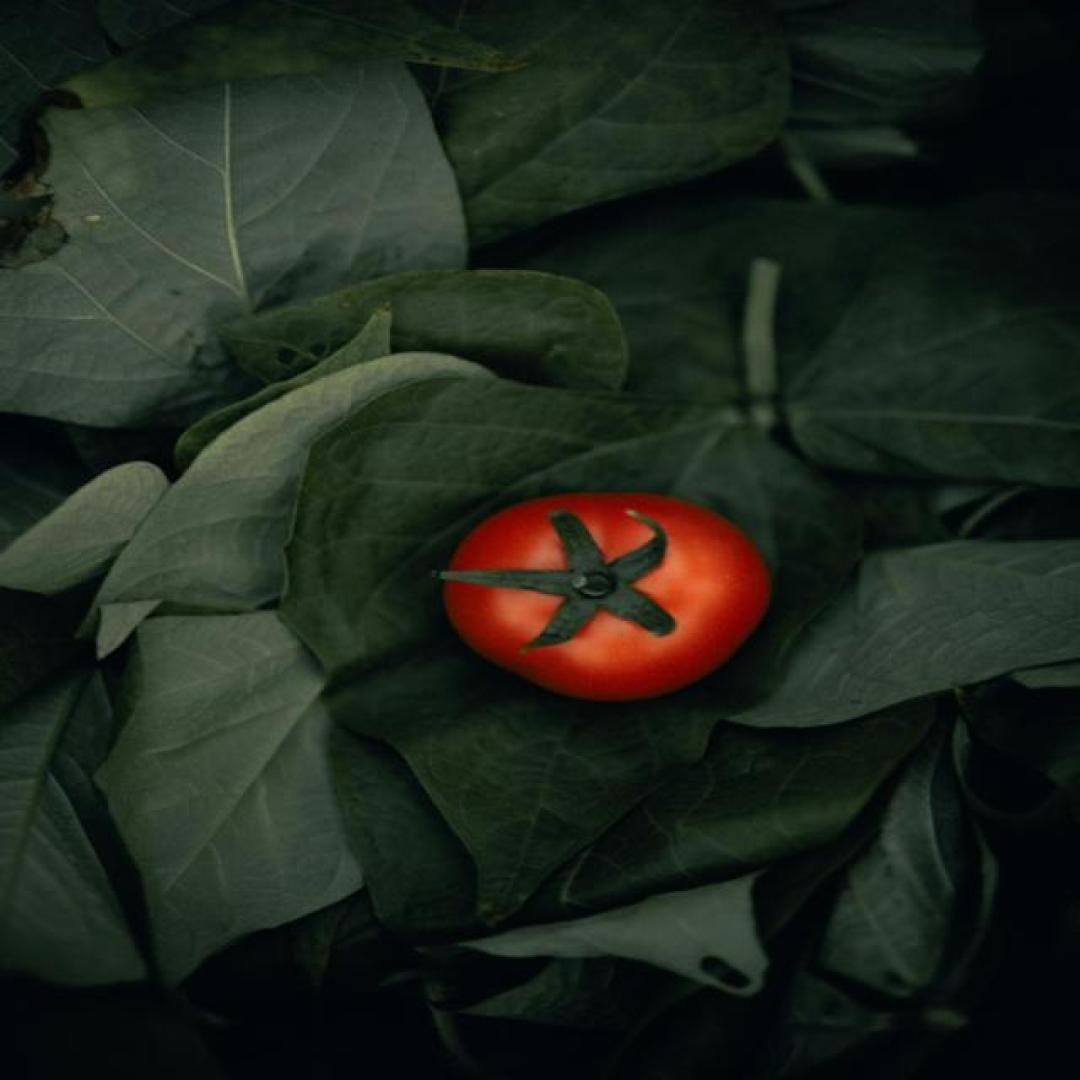matang: (447, 493, 771, 698)
